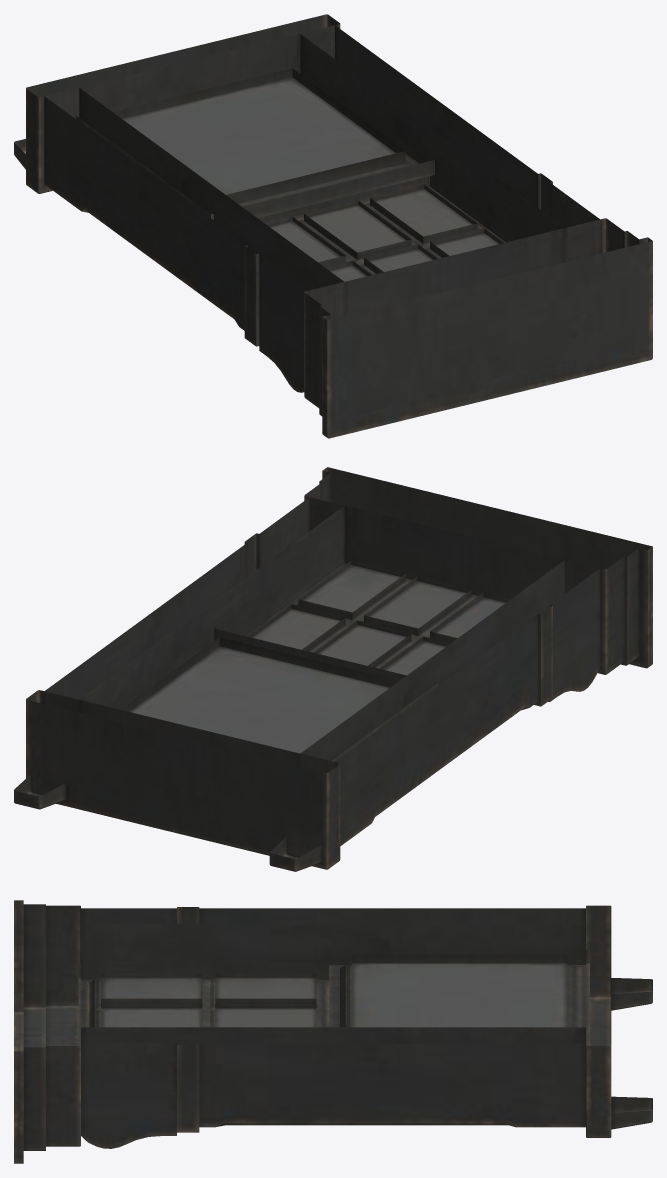
Rendered from window_centered_small_02.gltf.
3 renders of one model, top to bottom at view 1: azimuth 30°, elevation 25°; view 2: azimuth 150°, elevation 25°; view 3: azimuth 270°, elevation 25°, orthographic. The views are drawn at different scales.
Visible parts, largest first — view 1: window_centered_small_02; view 2: window_centered_small_02; view 3: window_centered_small_02.
Boxes of the visible parts, box(x1,y1,x2,y2) form: window_centered_small_02: box(14, 14, 652, 438); window_centered_small_02: box(14, 467, 652, 871); window_centered_small_02: box(14, 900, 652, 1163).
Bounding box in the file's own units: 1.12 × 0.39 × 2.
Materials: 2 (2 with a texture image).
